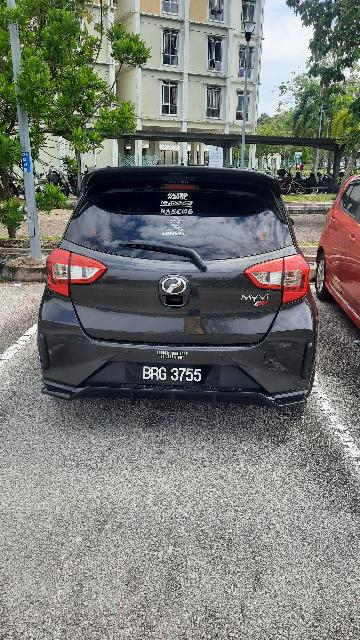License_Plate: (126, 359, 221, 391)
car: (32, 161, 325, 414)
